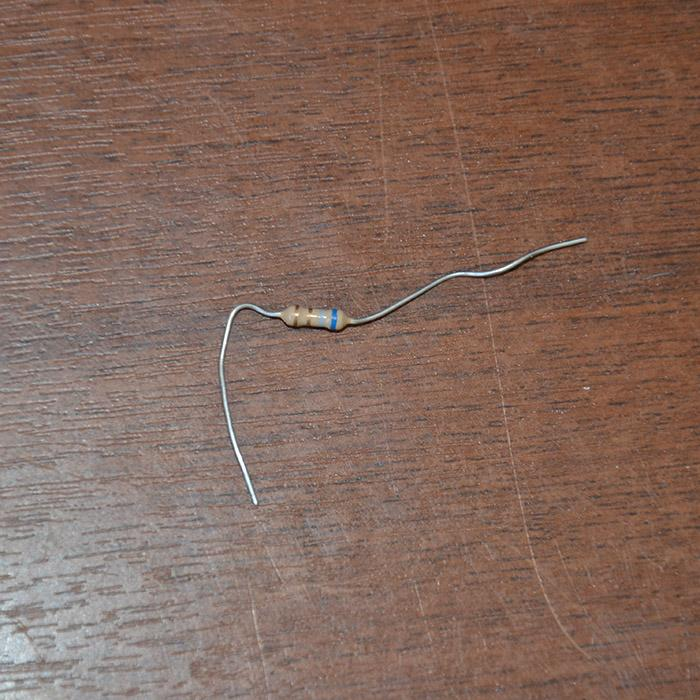resistor: (279, 304, 350, 332)
